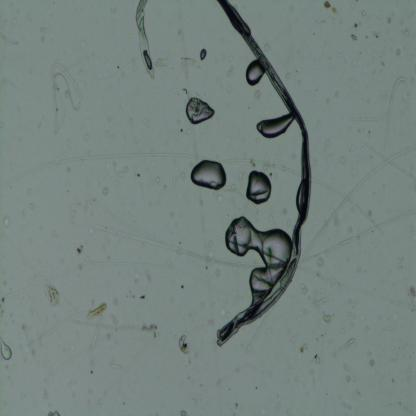Air bubble: (225, 213, 290, 296), (254, 112, 295, 141), (191, 160, 226, 190), (184, 96, 216, 126), (247, 170, 273, 204), (245, 59, 265, 87), (199, 49, 208, 61)
Background material: (40, 282, 62, 309), (139, 319, 158, 340), (86, 301, 107, 320), (178, 52, 196, 70), (178, 332, 191, 355), (1, 212, 12, 230), (324, 1, 338, 13), (156, 56, 168, 70), (118, 163, 129, 178), (74, 242, 85, 255), (298, 282, 308, 296), (321, 312, 333, 323), (315, 257, 325, 269), (408, 286, 416, 300), (253, 89, 262, 99), (300, 343, 308, 354), (368, 358, 376, 368), (47, 410, 60, 416), (396, 46, 402, 58), (349, 32, 358, 40), (360, 8, 367, 18), (102, 188, 109, 195), (180, 410, 188, 416)
Cotton: (213, 0, 312, 346), (136, 0, 158, 81)
Glass filter fibre: (303, 144, 416, 258), (0, 149, 300, 191), (90, 216, 255, 272), (306, 206, 416, 262), (24, 308, 87, 349), (50, 62, 82, 134), (382, 76, 408, 162), (244, 307, 275, 353), (88, 314, 104, 370), (0, 336, 12, 361), (336, 337, 354, 352), (0, 32, 19, 46)
